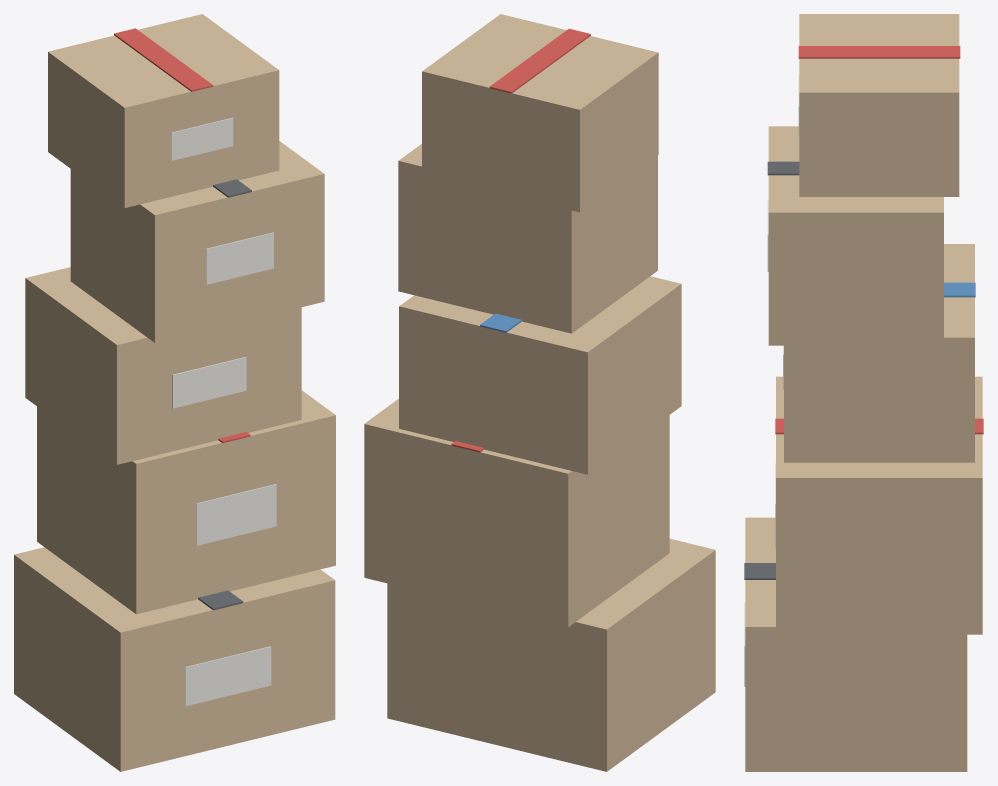
File: parcel-stack-medium.glb
The picture shows the model from 3 angles, left to right: view 1: azimuth 30°, elevation 25°; view 2: azimuth 150°, elevation 25°; view 3: azimuth 270°, elevation 25°; orthographic projection. The views are drawn at different scales.
Visible parts, largest first — view 1: parcel-depot-and-sorting-hall-parcel-stack-medium; view 2: parcel-depot-and-sorting-hall-parcel-stack-medium; view 3: parcel-depot-and-sorting-hall-parcel-stack-medium.
Part boxes in pixels (x1,y1,x2,y2): parcel-depot-and-sorting-hall-parcel-stack-medium: [14, 14, 335, 771]; parcel-depot-and-sorting-hall-parcel-stack-medium: [364, 14, 715, 771]; parcel-depot-and-sorting-hall-parcel-stack-medium: [744, 14, 983, 771].
Size of the model in its own units: 0.6003 by 1.59 by 0.5188.
